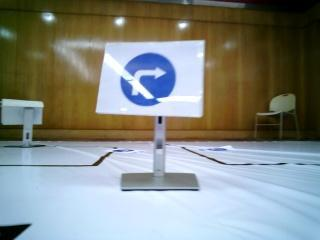right: (111, 45, 186, 109)
